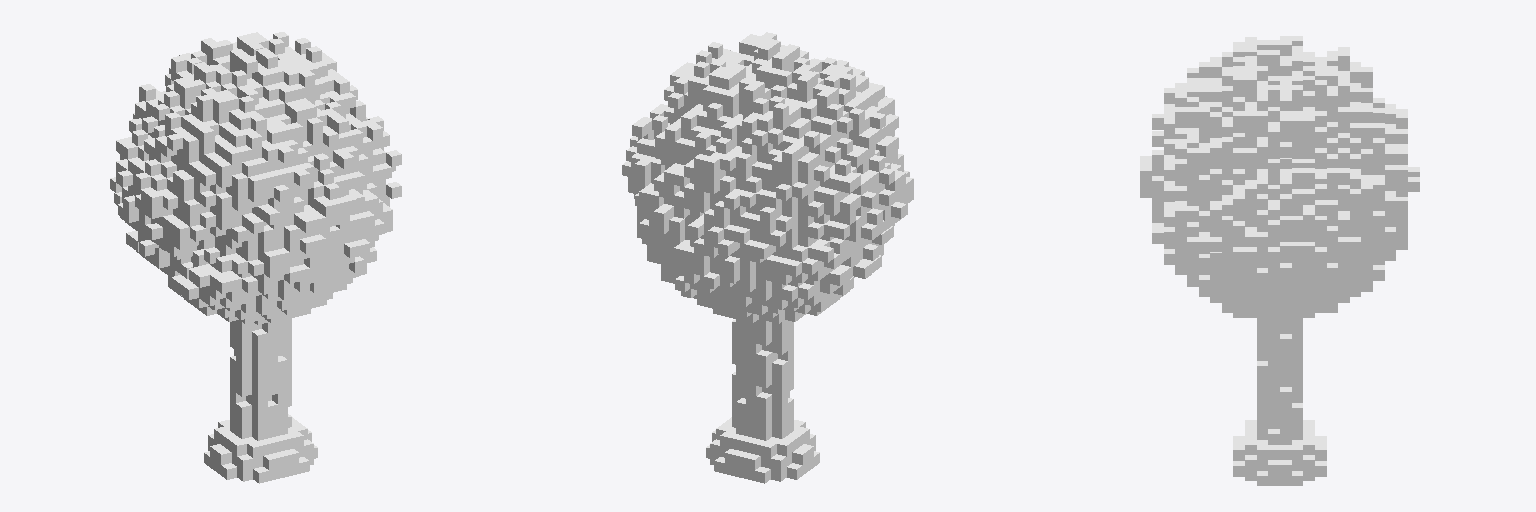
File: RoundTree.obj
The picture shows the model from 3 angles: view 1: azimuth 30°, elevation 25°; view 2: azimuth 150°, elevation 25°; view 3: azimuth 270°, elevation 25°; orthographic projection.
Bounding box in the file's own units: 24 × 39 × 24.